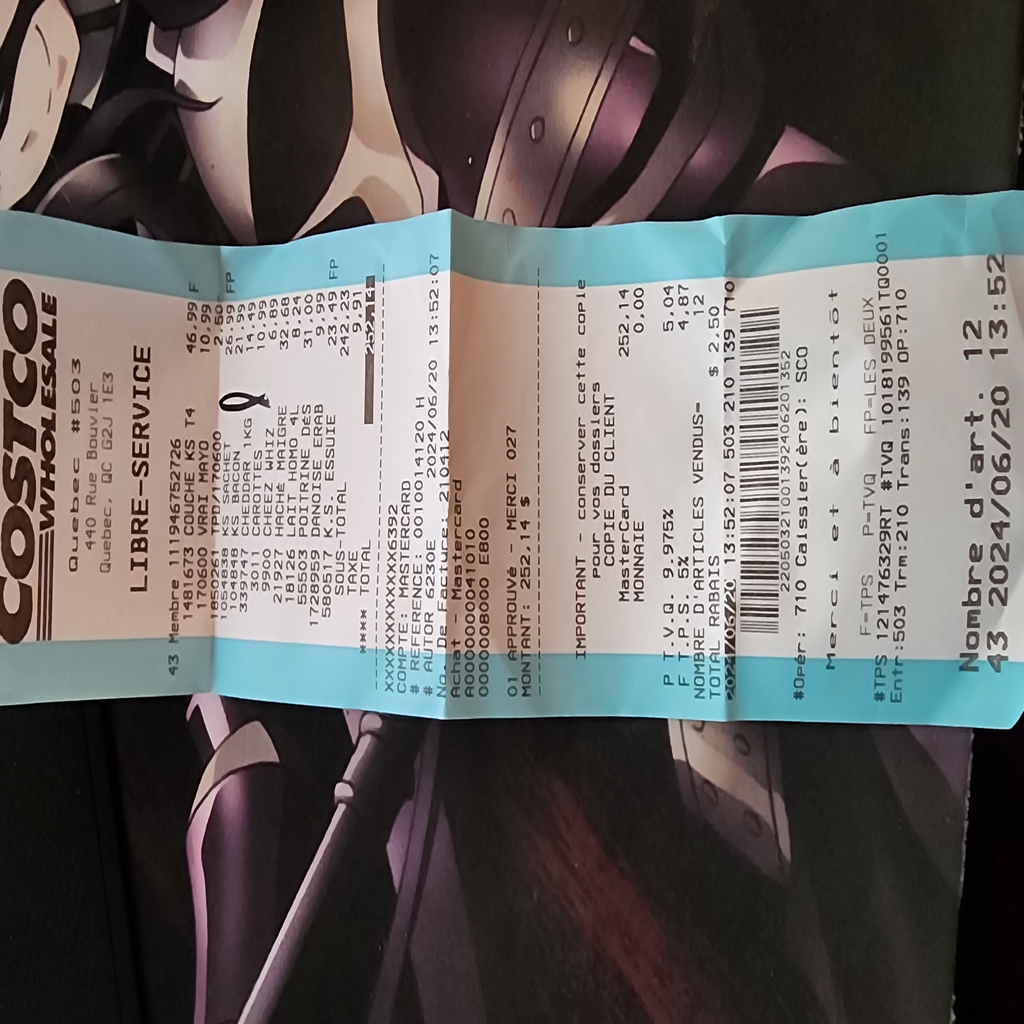recipt: (4, 191, 1024, 728)
